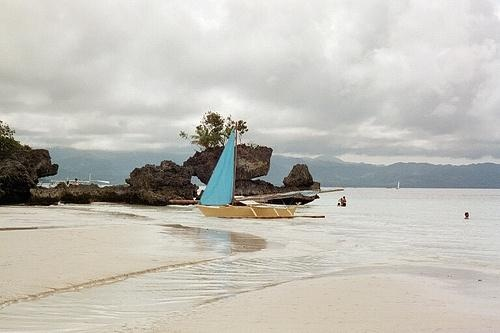boat: (192, 124, 302, 221)
